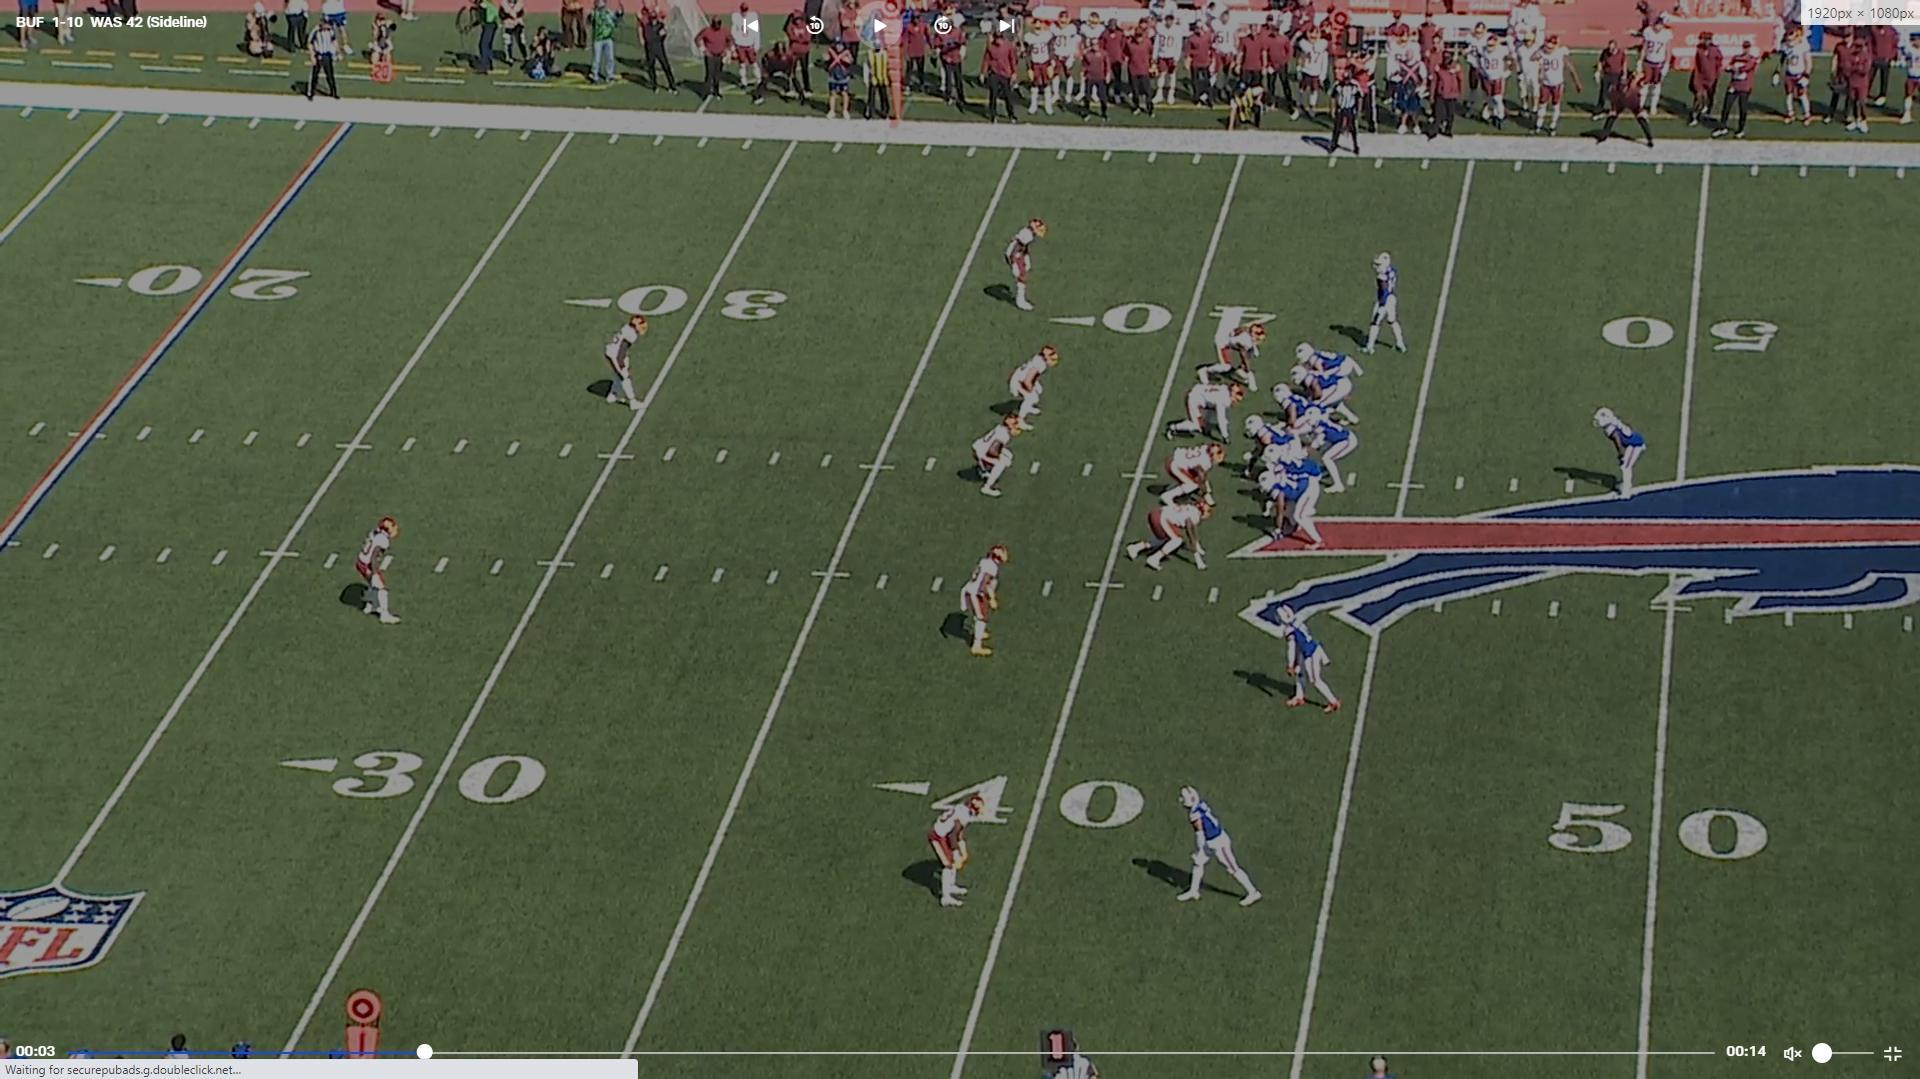player: (1171, 783, 1266, 913), (1273, 600, 1351, 719), (943, 540, 1013, 660), (921, 785, 979, 909), (1127, 499, 1215, 573), (1254, 469, 1328, 554), (349, 515, 402, 630), (1256, 441, 1325, 522), (1591, 406, 1647, 504), (601, 309, 652, 415), (1356, 254, 1405, 363), (1306, 408, 1363, 501), (1156, 441, 1226, 515), (1008, 343, 1062, 438), (1201, 321, 1273, 392), (1164, 382, 1243, 446), (1297, 364, 1366, 431), (1244, 411, 1307, 480), (969, 417, 1019, 502), (1008, 214, 1050, 314), (1301, 343, 1367, 402), (1271, 383, 1328, 450)
ref: (1326, 70, 1377, 162), (302, 15, 350, 107)
